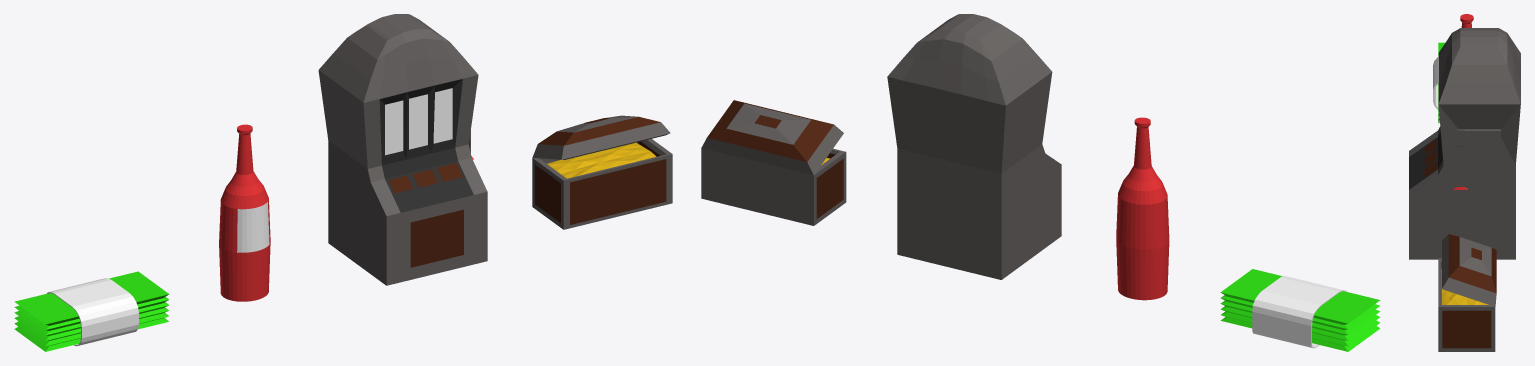
File: Models.fbx
3 renders of one model, left to right at view 1: azimuth 30°, elevation 25°; view 2: azimuth 150°, elevation 25°; view 3: azimuth 270°, elevation 25°, orthographic. The views are drawn at different scales.
Parts seen in each view (by area): view 1: Jackpot, Case, Money, Bottle; view 2: Jackpot, Case, Money, Bottle; view 3: Jackpot, Case, Money, Bottle.
Boxes of the visible parts, <box> form: Jackpot: <box>318,14,487,285</box>; Case: <box>532,115,672,229</box>; Money: <box>14,271,169,351</box>; Bottle: <box>219,124,270,301</box>; Jackpot: <box>887,14,1061,279</box>; Case: <box>701,100,846,225</box>; Money: <box>1220,269,1380,351</box>; Bottle: <box>1116,117,1169,300</box>; Jackpot: <box>1409,28,1520,259</box>; Case: <box>1438,234,1496,351</box>; Money: <box>1433,42,1444,123</box>; Bottle: <box>1460,14,1473,27</box>.
Bounding box in the file's own units: 23.19 × 3.91 × 7.99.
